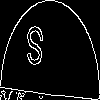S: (25, 25, 44, 75)
